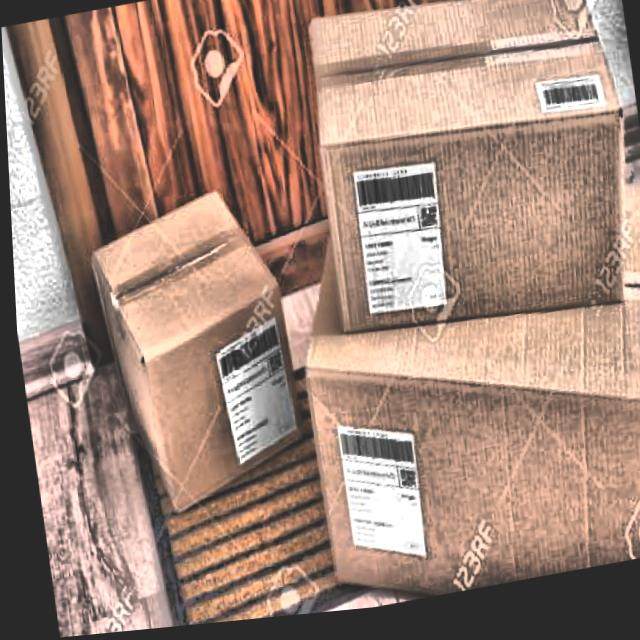Cardbox: (288, 0, 640, 383), (41, 188, 316, 544)
